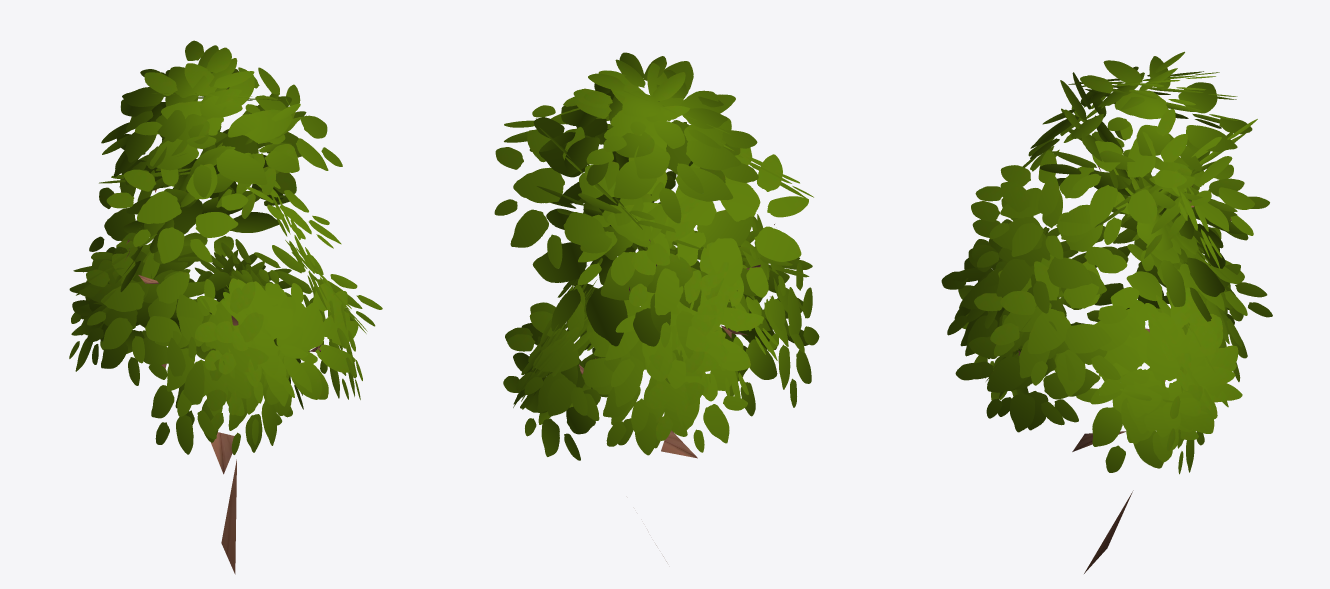
The model's file is jati-1-lod.glb.
3 views of the same model, side by side, from view 1: azimuth 30°, elevation 25°; view 2: azimuth 150°, elevation 25°; view 3: azimuth 270°, elevation 25° (orthographic). The views are drawn at different scales.
Parts seen in each view (by area): view 1: CommonTree_1; view 2: CommonTree_1; view 3: CommonTree_1.
Part boxes in pixels (bbox=[...]): CommonTree_1: bbox=[69, 40, 382, 574]; CommonTree_1: bbox=[494, 52, 819, 561]; CommonTree_1: bbox=[941, 51, 1272, 573].
Size of the model in its own units: 6.11 by 9.24 by 6.74.
Materials: 2 (2 with a texture image).
